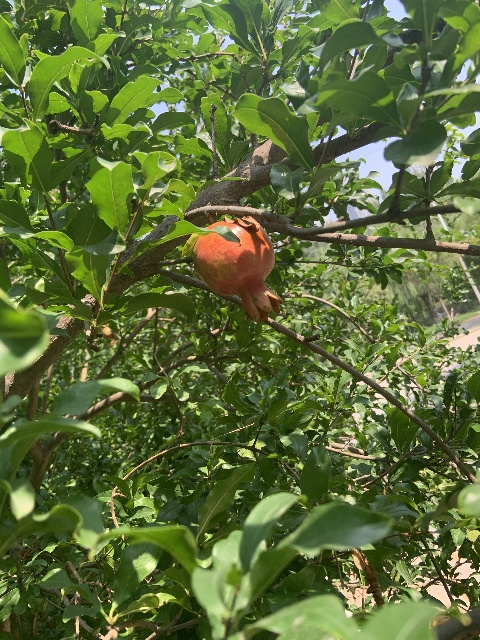ripe: (193, 221, 282, 323)
